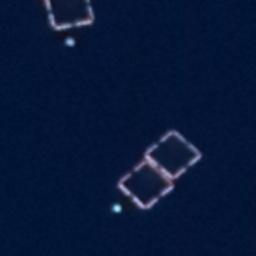square_solid: (140, 126, 204, 187), (115, 156, 177, 213), (39, 1, 99, 33)
